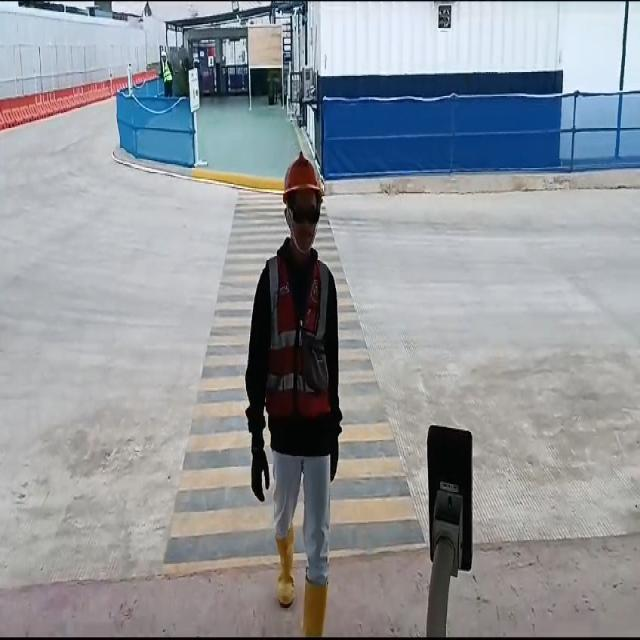gloves: (248, 452, 270, 502)
goggles: (285, 200, 325, 229)
helmet: (283, 162, 324, 202), (160, 50, 169, 56)
safety_vest: (266, 253, 332, 420), (162, 66, 172, 84)
